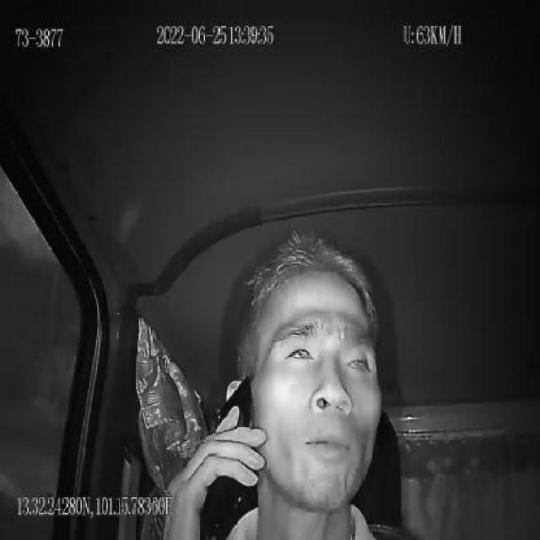phone: (210, 369, 258, 540)
